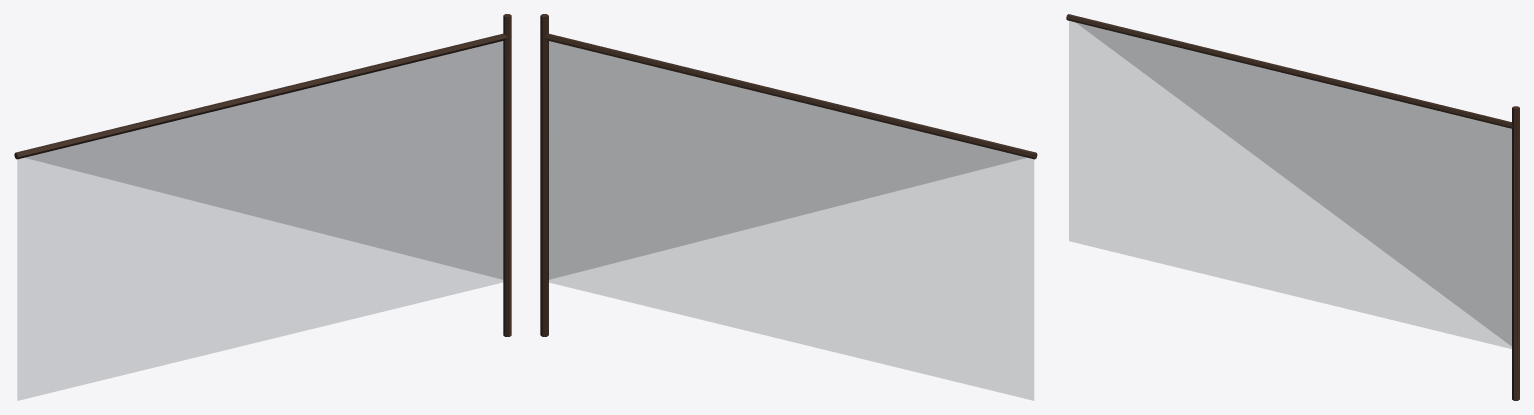
File: lf_metal_fence_one_side_topbar.glb
The picture shows the model from 3 angles, left to right: view 1: azimuth 30°, elevation 25°; view 2: azimuth 150°, elevation 25°; view 3: azimuth 330°, elevation 25°; orthographic projection. The views are drawn at different scales.
Parts seen in each view (by area): view 1: metalfence_one_side_topbar; view 2: metalfence_one_side_topbar; view 3: metalfence_one_side_topbar.
Boxes of the visible parts, bbox=[...] form: metalfence_one_side_topbar: bbox=[14, 14, 511, 399]; metalfence_one_side_topbar: bbox=[540, 14, 1037, 400]; metalfence_one_side_topbar: bbox=[1066, 14, 1519, 400].
Size of the model in its own units: 2.7 by 1.67 by 0.0402.
